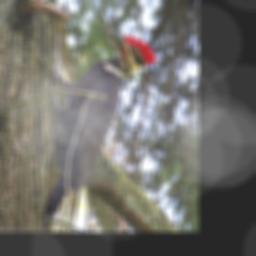Woodpecker: (40, 25, 159, 232)
